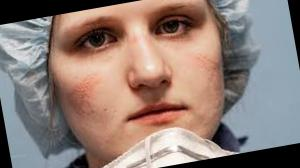mask_weared_incorrect: (63, 1, 237, 168)
